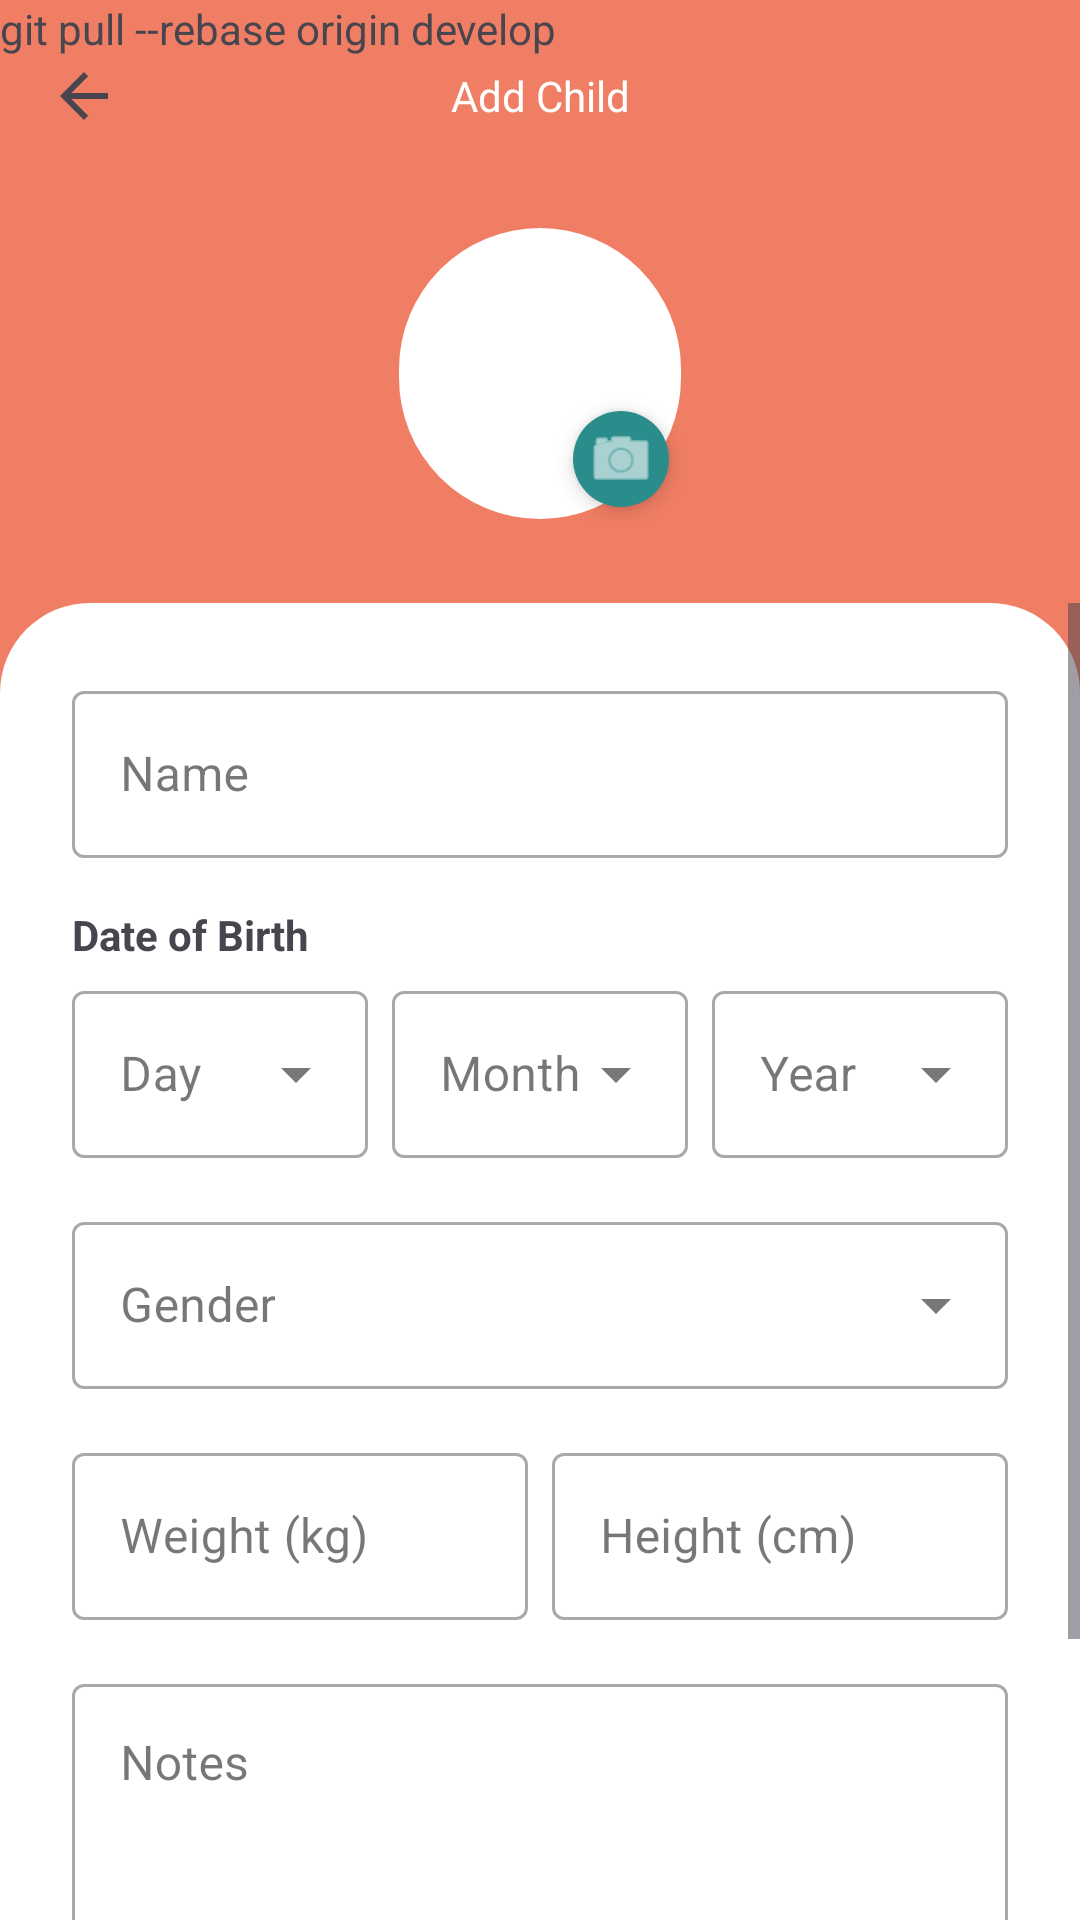

Icon click points for this 1080x1920 phone screenshot, format [x,y]:
Ubah Foto: [621,459]
